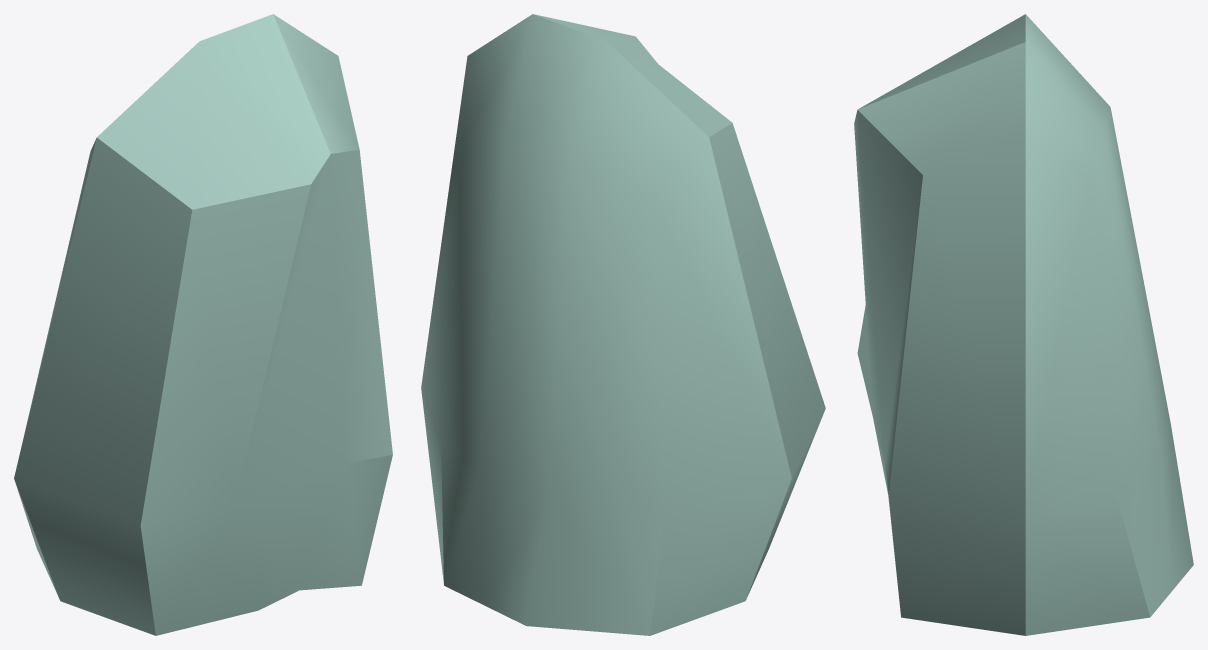
The model's file is Asset_RockA.fbx.
3 renders of one model, left to right at view 1: azimuth 30°, elevation 25°; view 2: azimuth 150°, elevation 25°; view 3: azimuth 270°, elevation 25°, orthographic. The views are drawn at different scales.
Visible parts, largest first — view 1: Cube; view 2: Cube; view 3: Cube.
Boxes of the visible parts, box(x1,y1,x2,y2) form: Cube: box(14, 14, 392, 635); Cube: box(421, 14, 825, 635); Cube: box(854, 14, 1193, 635).
Size of the model in its own units: 200 by 276 by 152.
